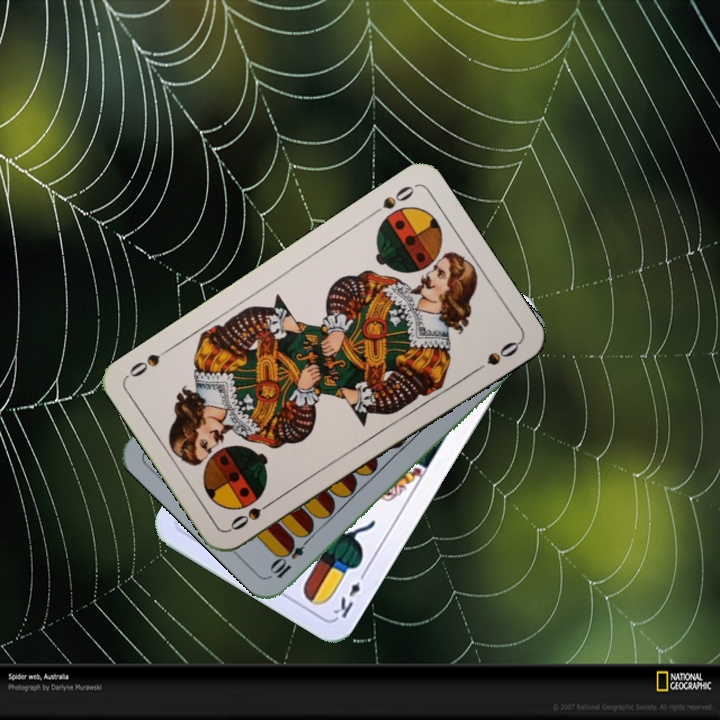E10: (268, 531, 315, 581)
EK: (329, 566, 370, 621)
SO: (226, 495, 278, 534), (366, 181, 417, 220)
